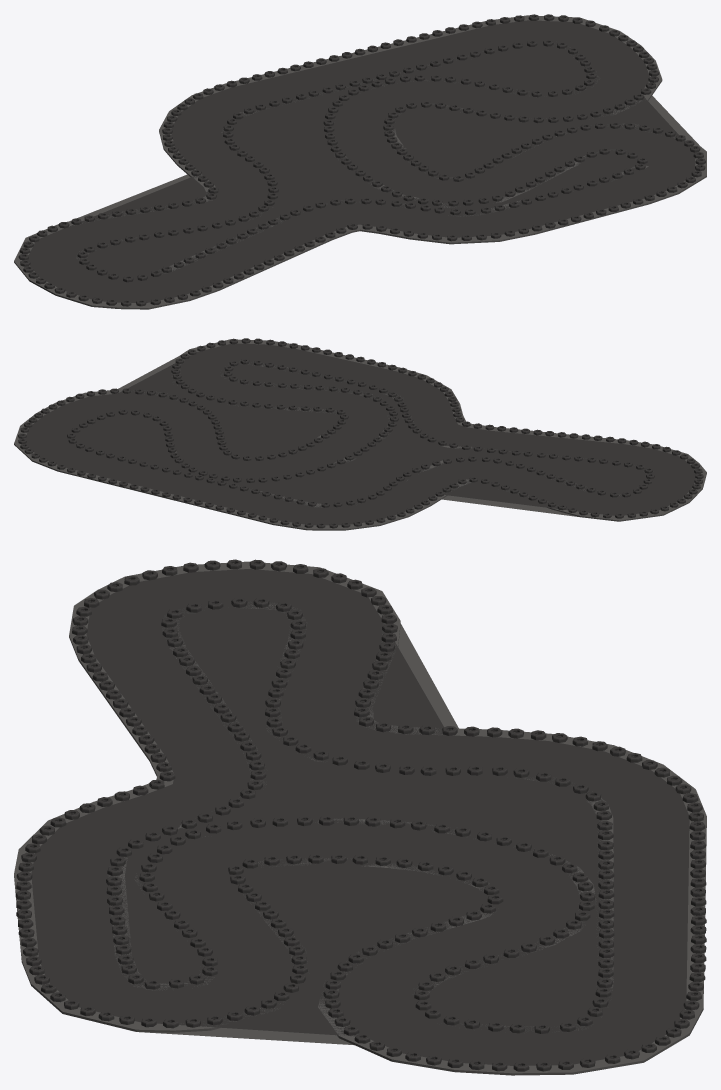
Rendered from SM_Bldg_City_AmusementPark_GoKart.fbx.
3 renders of one model, top to bottom at view 1: azimuth 30°, elevation 25°; view 2: azimuth 150°, elevation 25°; view 3: azimuth 270°, elevation 25°, orthographic. The views are drawn at different scales.
Visible parts, largest first — view 1: SM_Bldg_City_AmusementPark_GoKart; view 2: SM_Bldg_City_AmusementPark_GoKart; view 3: SM_Bldg_City_AmusementPark_GoKart.
Boxes of the visible parts, x1=… form: SM_Bldg_City_AmusementPark_GoKart: x1=14, y1=14, x2=706, y2=309; SM_Bldg_City_AmusementPark_GoKart: x1=14, y1=338, x2=706, y2=530; SM_Bldg_City_AmusementPark_GoKart: x1=14, y1=559, x2=706, y2=1075.
Bounding box in the file's own units: 4918 × 27.82 × 2814.
